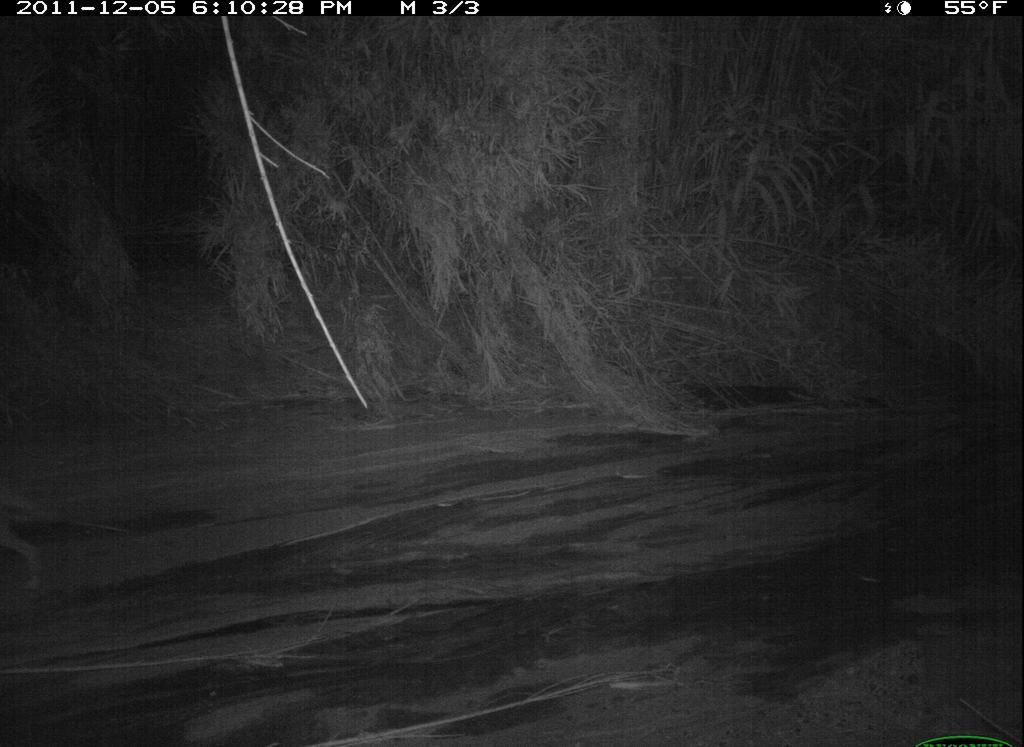coyote: (4, 481, 63, 605)
